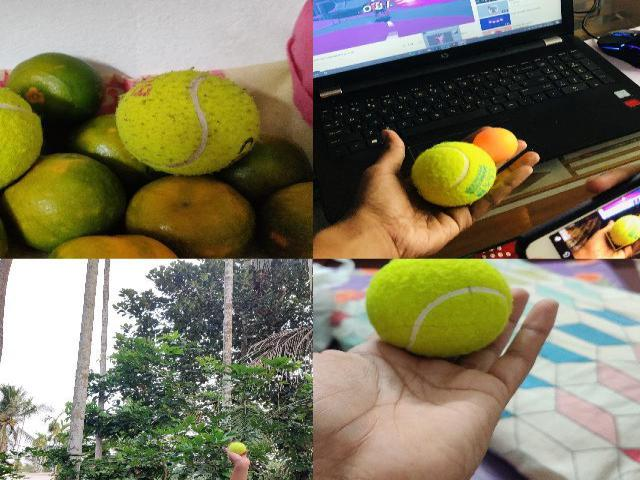tennis-ball: (114, 70, 260, 174), (364, 258, 515, 358), (412, 142, 496, 206), (228, 442, 246, 454)
